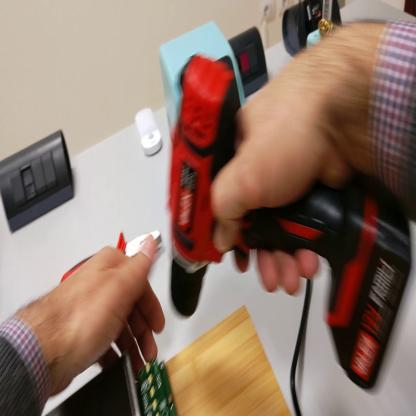electric screwdriver: (167, 53, 381, 331)
hand: (210, 44, 352, 293), (36, 238, 167, 389)
low voltage board: (48, 351, 177, 415)
pliers: (60, 226, 163, 284)
socket: (283, 2, 343, 58), (230, 24, 268, 100)
welder base: (310, 2, 339, 49)
welder station: (161, 16, 246, 141)
working area: (170, 309, 294, 416)
